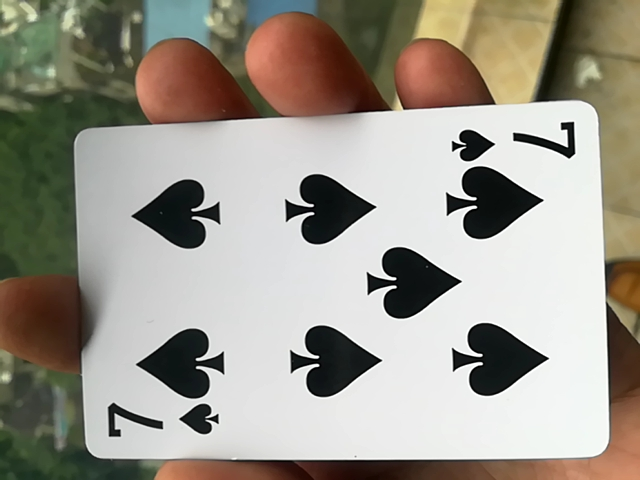ht 7: (66, 104, 611, 471)
